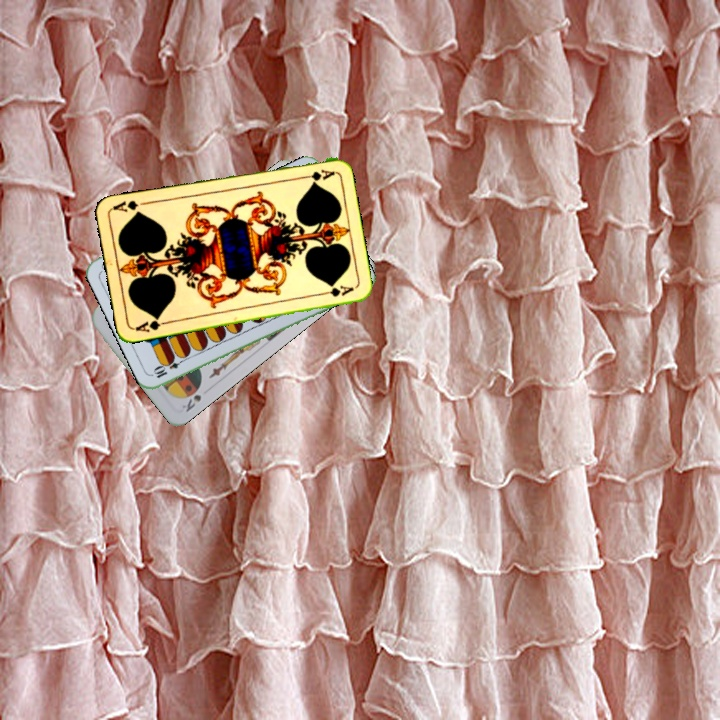E10: (150, 353, 189, 381)
GA: (131, 313, 171, 335), (296, 165, 336, 183)
SK: (178, 390, 204, 415)
